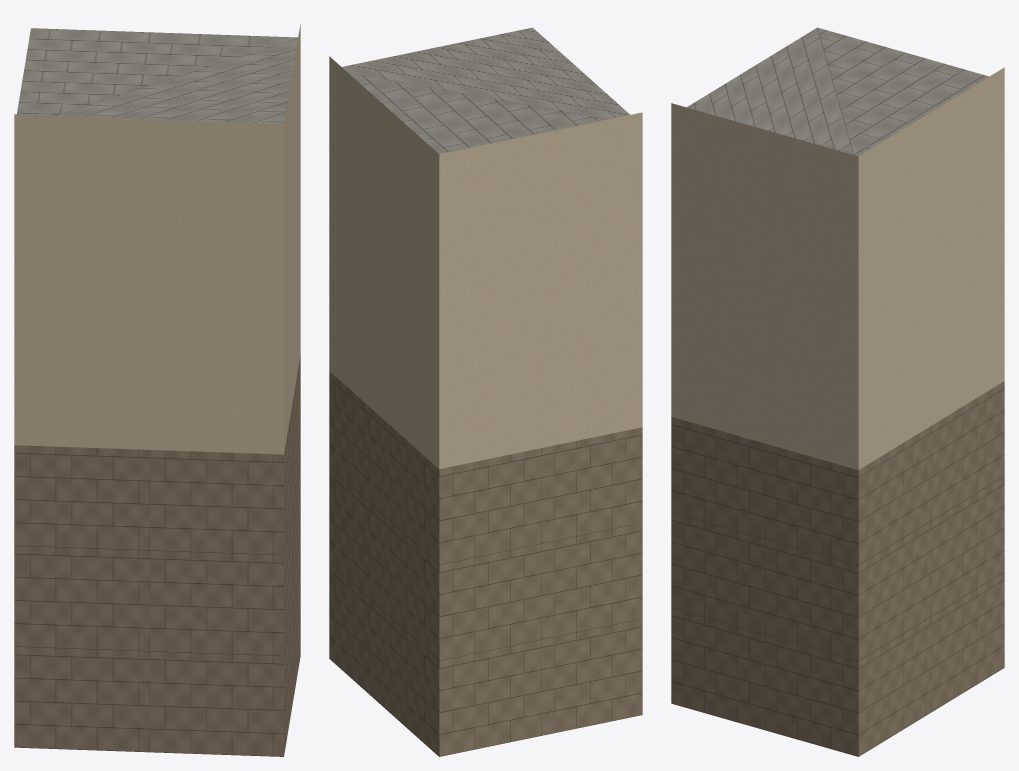
The model's file is bld_c14_36_406.gltf.
The picture shows the model from 3 angles, left to right: view 1: azimuth 30°, elevation 25°; view 2: azimuth 150°, elevation 25°; view 3: azimuth 270°, elevation 25°; orthographic projection. The views are drawn at different scales.
Visible parts, largest first — view 1: bld_c14_36_406; view 2: bld_c14_36_406; view 3: bld_c14_36_406.
Part boxes in pixels (left/top/right/bottom): bld_c14_36_406: left=14, top=24, right=300, bottom=756; bld_c14_36_406: left=329, top=27, right=642, bottom=756; bld_c14_36_406: left=671, top=27, right=1004, bottom=756.
Bounding box in the file's own units: 5.43 × 10.68 × 5.37.
Materials: 4 (4 with a texture image).
